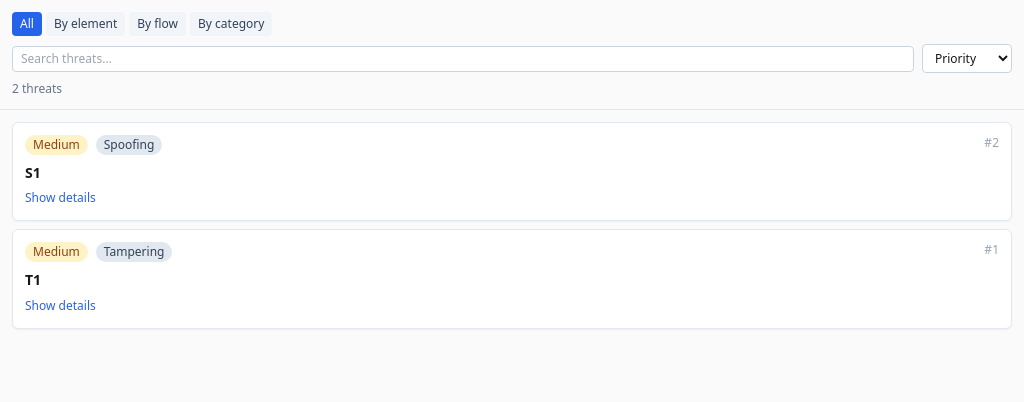
it: ThreatsPane component › byCategory groups with STRIDE ordering
The image size is (1024, 402).
Click the tab with test id "pane-mode-byCategory" at [231, 24], box 190,12 -> 272,36
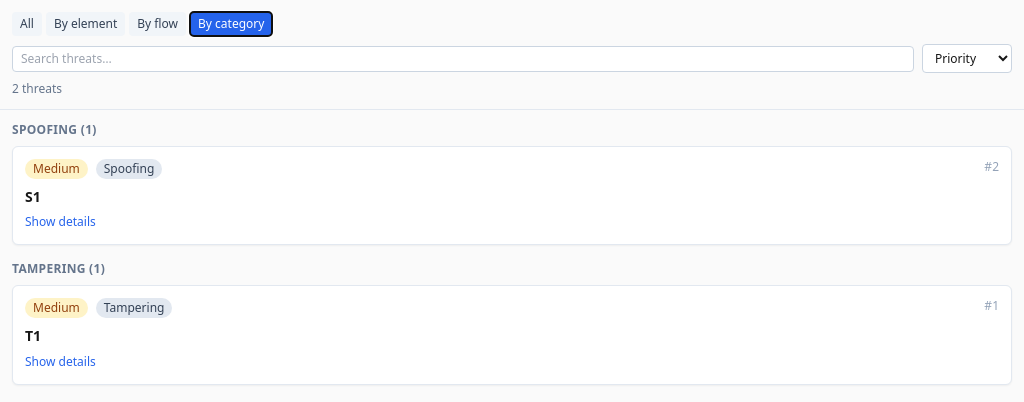
Check: the heading "Spoofing (1)" is shown, box 12,121 -> 97,138
Check: the heading "Tampering (1)" is shown, box 12,260 -> 105,277
